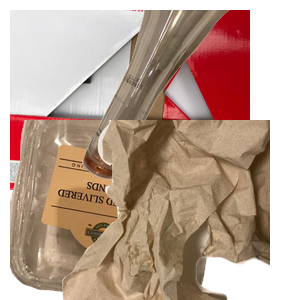cardboard: (10, 10, 250, 190)
glass: (80, 10, 300, 182)
plastic: (10, 120, 227, 300)
trash: (60, 120, 300, 300)
